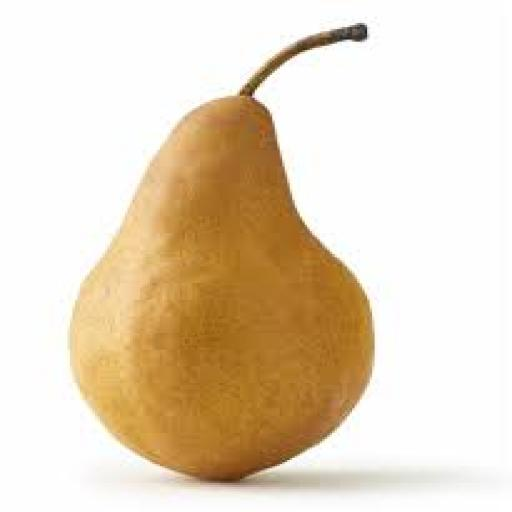Pear: (70, 25, 372, 480)
